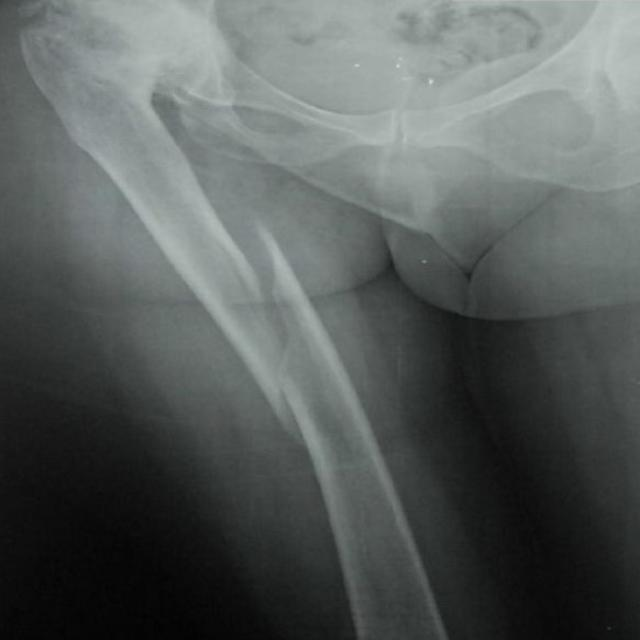Longitudinal: (192, 194, 356, 459)
